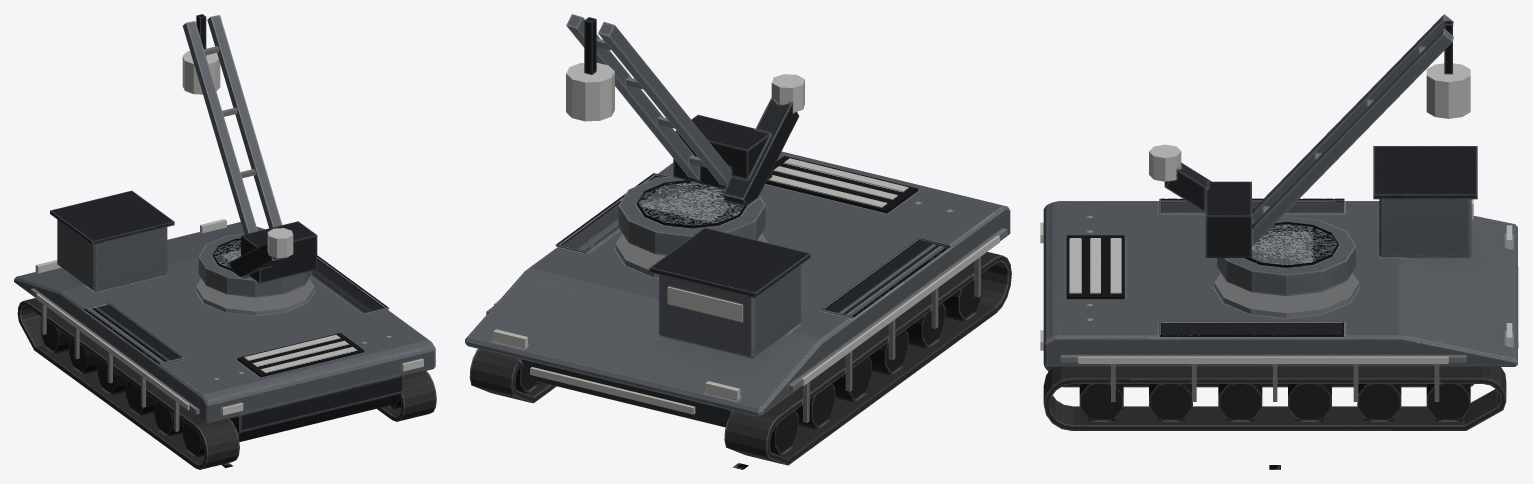
The model's file is chs_forgemaster.fbx.
The picture shows the model from 3 angles, left to right: view 1: azimuth 30°, elevation 25°; view 2: azimuth 150°, elevation 25°; view 3: azimuth 270°, elevation 25°; orthographic projection. The views are drawn at different scales.
Visible parts, largest first — view 1: base_bar, nano_bar, base_glow_running_bar, nano_glow_power_bar, base_glow_head_bar; view 2: base_bar, nano_bar, base_glow_running_bar, nano_glow_power_bar, base_glow_head_bar; view 3: base_bar, nano_bar, base_glow_running_bar, nano_glow_power_bar.
Boxes of the visible parts, x1=… form: base_bar: x1=14, y1=190, x2=436, y2=469; nano_bar: x1=182, y1=14, x2=317, y2=297; base_glow_running_bar: x1=36, y1=294, x2=423, y2=415; nano_glow_power_bar: x1=182, y1=51, x2=293, y2=257; base_glow_head_bar: x1=35, y1=219, x2=226, y2=273; base_bar: x1=465, y1=151, x2=1011, y2=465; nano_bar: x1=566, y1=14, x2=799, y2=255; base_glow_running_bar: x1=494, y1=158, x2=999, y2=414; nano_glow_power_bar: x1=566, y1=62, x2=804, y2=121; base_glow_head_bar: x1=493, y1=329, x2=740, y2=400; base_bar: x1=1043, y1=146, x2=1517, y2=430; nano_bar: x1=1164, y1=14, x2=1453, y2=296; base_glow_running_bar: x1=1040, y1=199, x2=1518, y2=363; nano_glow_power_bar: x1=1149, y1=63, x2=1470, y2=181.
Size of the model in its own units: 584 by 900 by 827.
2 materials, 2 textured.
